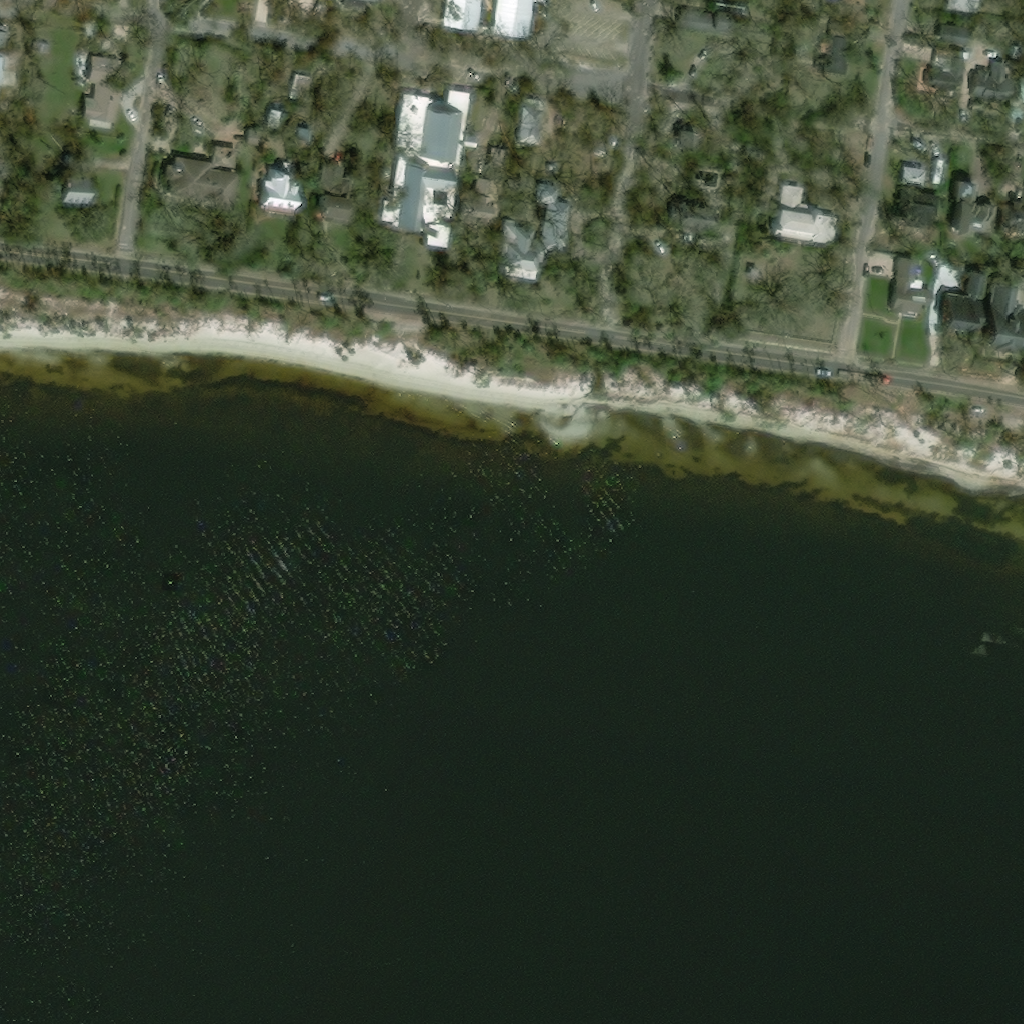minor_damage: (962, 177, 1011, 238)
no_damage: (393, 88, 487, 246), (176, 145, 255, 207), (779, 178, 848, 245), (87, 58, 137, 132), (948, 272, 992, 341), (513, 219, 558, 283), (272, 167, 330, 211), (897, 258, 941, 314), (992, 282, 1024, 346), (943, 26, 983, 75), (500, 0, 545, 43), (69, 155, 112, 200), (444, 0, 490, 36), (695, 7, 748, 36), (984, 52, 1014, 96), (829, 31, 860, 69), (908, 189, 950, 216), (691, 201, 727, 226), (911, 166, 936, 187), (92, 37, 109, 53)
